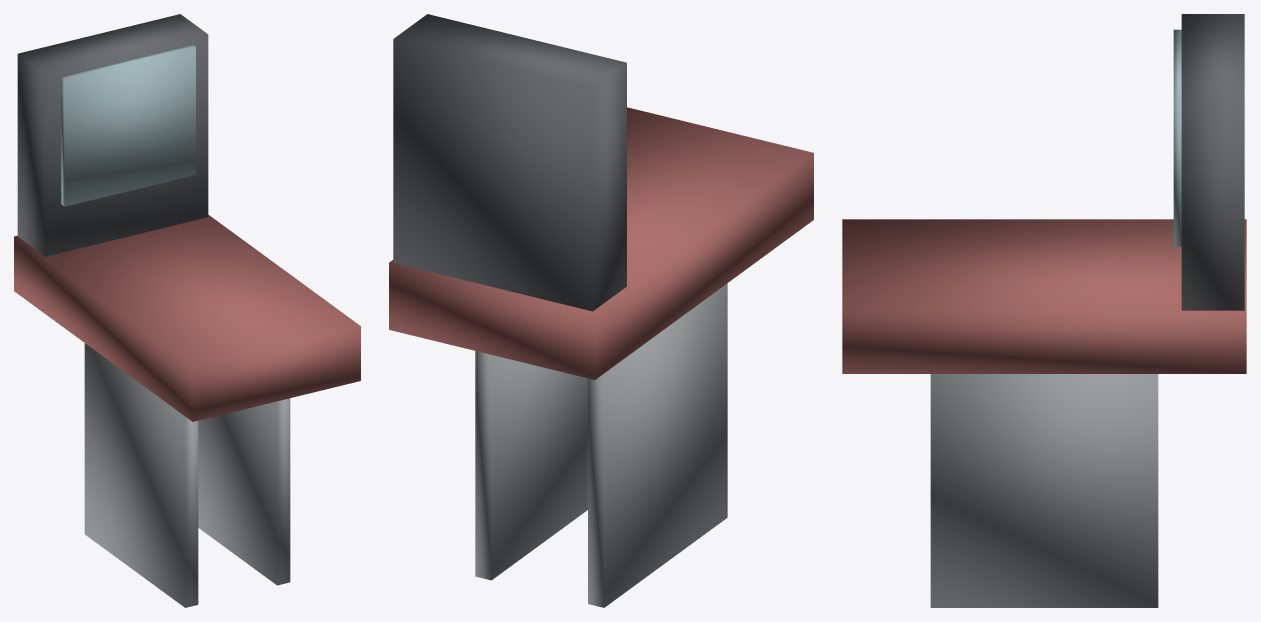
File: pinball_machine__compact.glb
3 views of the same model, side by side, from view 1: azimuth 30°, elevation 25°; view 2: azimuth 150°, elevation 25°; view 3: azimuth 270°, elevation 25° (orthographic). The views are drawn at different scales.
Visible parts, largest first — view 1: world; view 2: world; view 3: world.
Part boxes in pixels (x1,y1,x2,y2): world: (14, 14, 360, 607); world: (389, 14, 813, 607); world: (842, 14, 1246, 607).
Size of the model in its own units: 0.5376 by 1.4 by 0.989.
